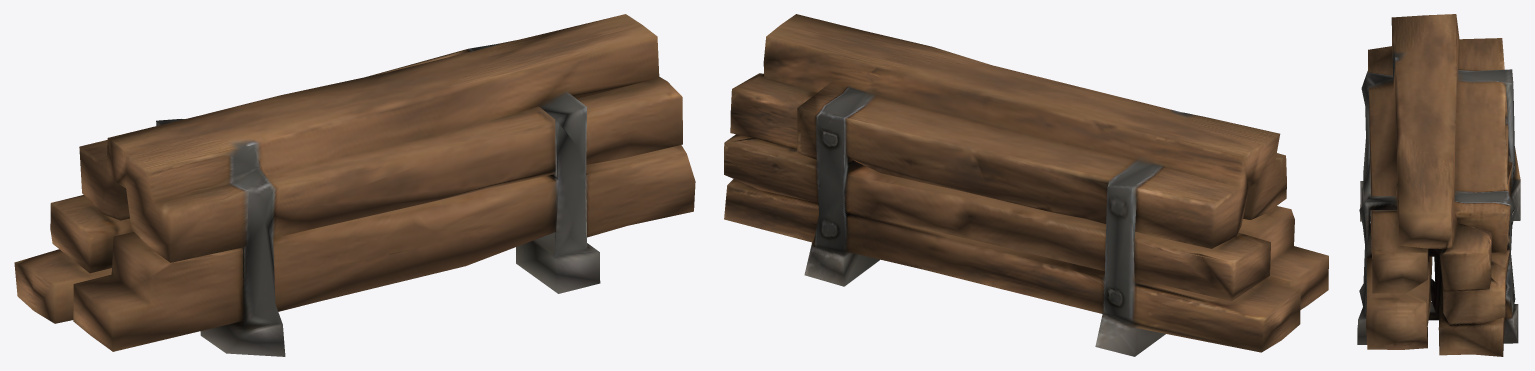
The model's file is textures.glb.
3 renders of one model, left to right at view 1: azimuth 30°, elevation 25°; view 2: azimuth 150°, elevation 25°; view 3: azimuth 270°, elevation 25°, orthographic. The views are drawn at different scales.
Parts seen in each view (by area): view 1: tripo_node_bebef70a-030b-4590-aa97-76fb8fcd9b72; view 2: tripo_node_bebef70a-030b-4590-aa97-76fb8fcd9b72; view 3: tripo_node_bebef70a-030b-4590-aa97-76fb8fcd9b72.
Boxes of the visible parts, <box> form: tripo_node_bebef70a-030b-4590-aa97-76fb8fcd9b72: <box>14,14,695,356</box>; tripo_node_bebef70a-030b-4590-aa97-76fb8fcd9b72: <box>724,14,1328,356</box>; tripo_node_bebef70a-030b-4590-aa97-76fb8fcd9b72: <box>1357,14,1520,356</box>.
Size of the model in its own units: 1 by 0.3359 by 0.3011.
1 material, 1 textured.
